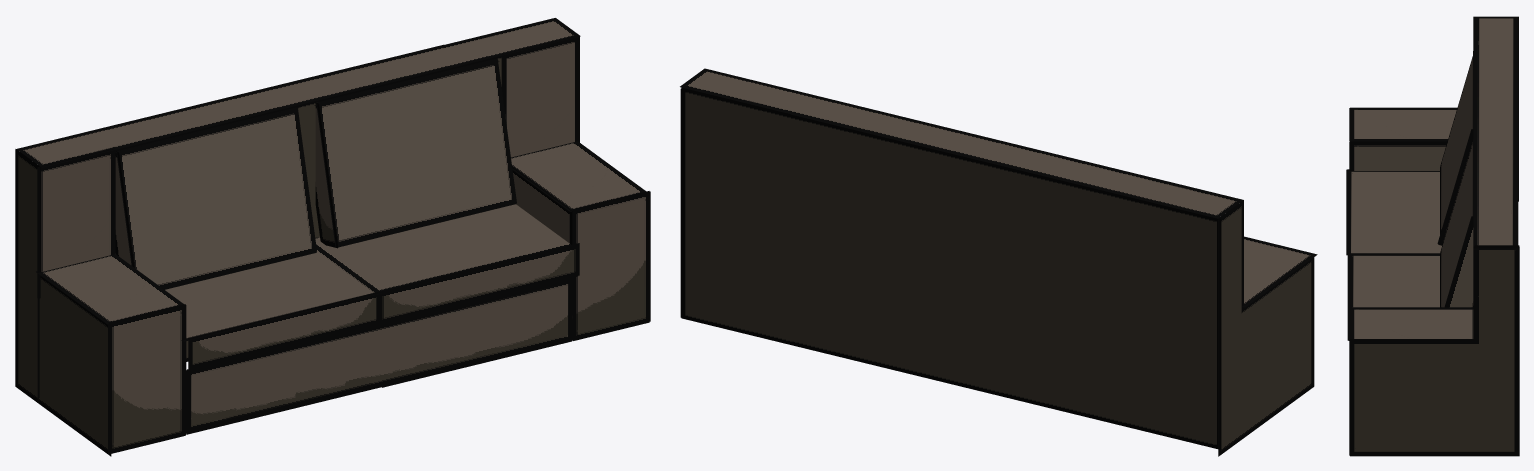
File: Sofa 3D.gltf
3 views of the same model, side by side, from view 1: azimuth 30°, elevation 25°; view 2: azimuth 150°, elevation 25°; view 3: azimuth 270°, elevation 25° (orthographic). The views are drawn at different scales.
Visible parts, largest first — view 1: default; view 2: default; view 3: default.
Part boxes in pixels (bbox=[...]): default: bbox=[15, 18, 650, 456]; default: bbox=[680, 68, 1317, 456]; default: bbox=[1346, 16, 1519, 456].
Size of the model in its own units: 68.43 by 29.06 by 21.38.
3 materials, 3 textured.
